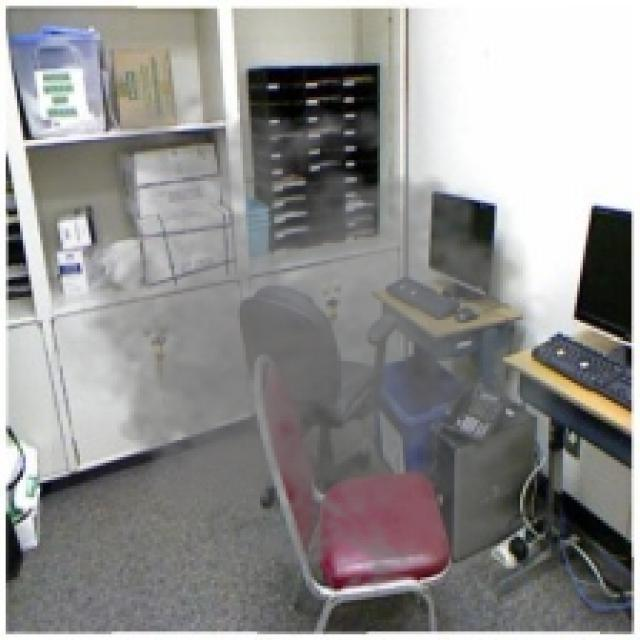Smoke: (52, 74, 598, 600)
